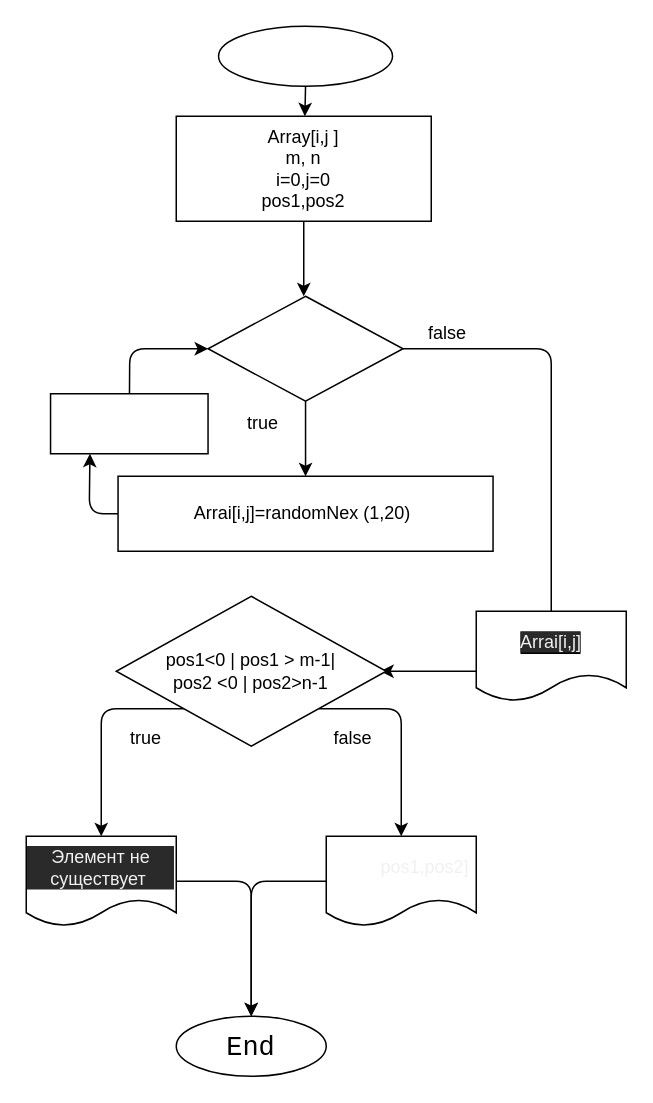
Some shapes in this 653 by 1103 pixel diagram are drawn without their labels. The centre of each missing label's shape, as x and y in pixels:
"i < m j < n" belongs at point 305,348.
"i++ j++" belongs at point 128,423.
"start" belongs at point 305,55.
